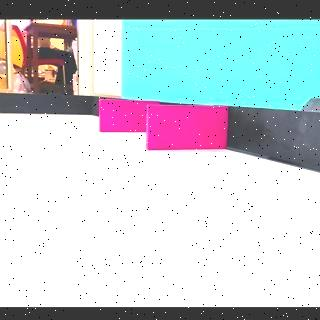xparking: (148, 106, 226, 151), (100, 101, 146, 132)
